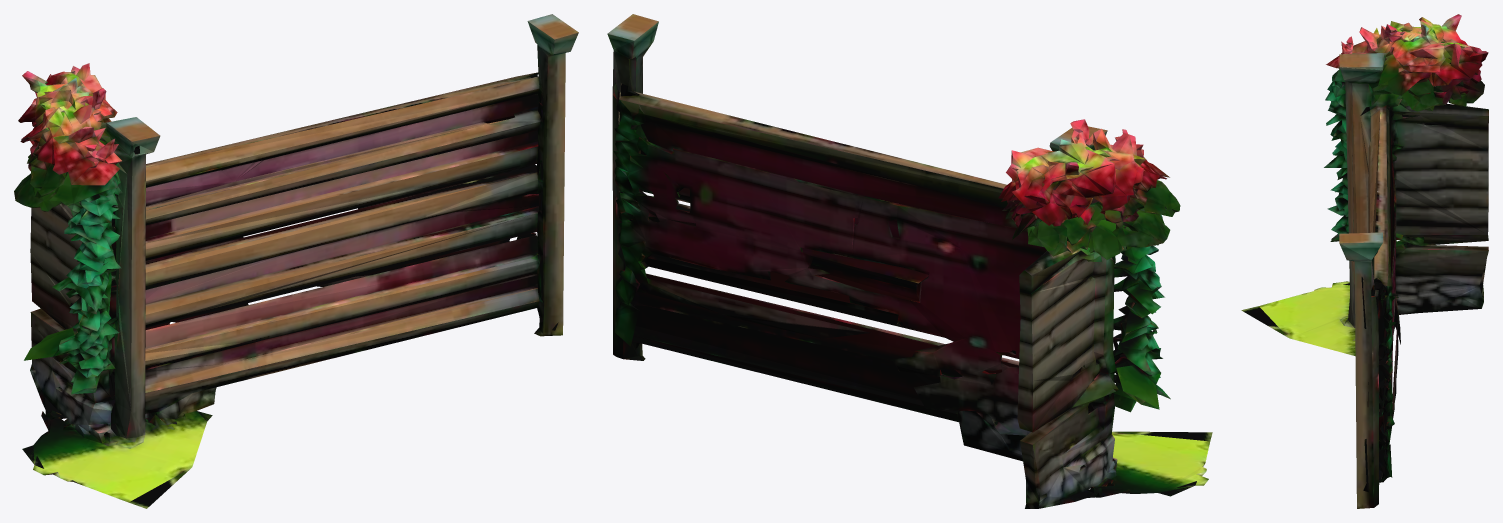
The model's file is village_fence_corner_01.glb.
The picture shows the model from 3 angles, left to right: view 1: azimuth 30°, elevation 25°; view 2: azimuth 150°, elevation 25°; view 3: azimuth 270°, elevation 25°; orthographic projection. The views are drawn at different scales.
Visible parts, largest first — view 1: geometry_0; view 2: geometry_0; view 3: geometry_0.
Boxes of the visible parts, box(x1,y1,x2,y2) form: geometry_0: box(14, 14, 578, 508); geometry_0: box(607, 14, 1212, 508); geometry_0: box(1241, 14, 1488, 508).
Size of the model in its own units: 0.9988 by 0.6115 by 0.4557.
Materials: 1 (1 with a texture image).
